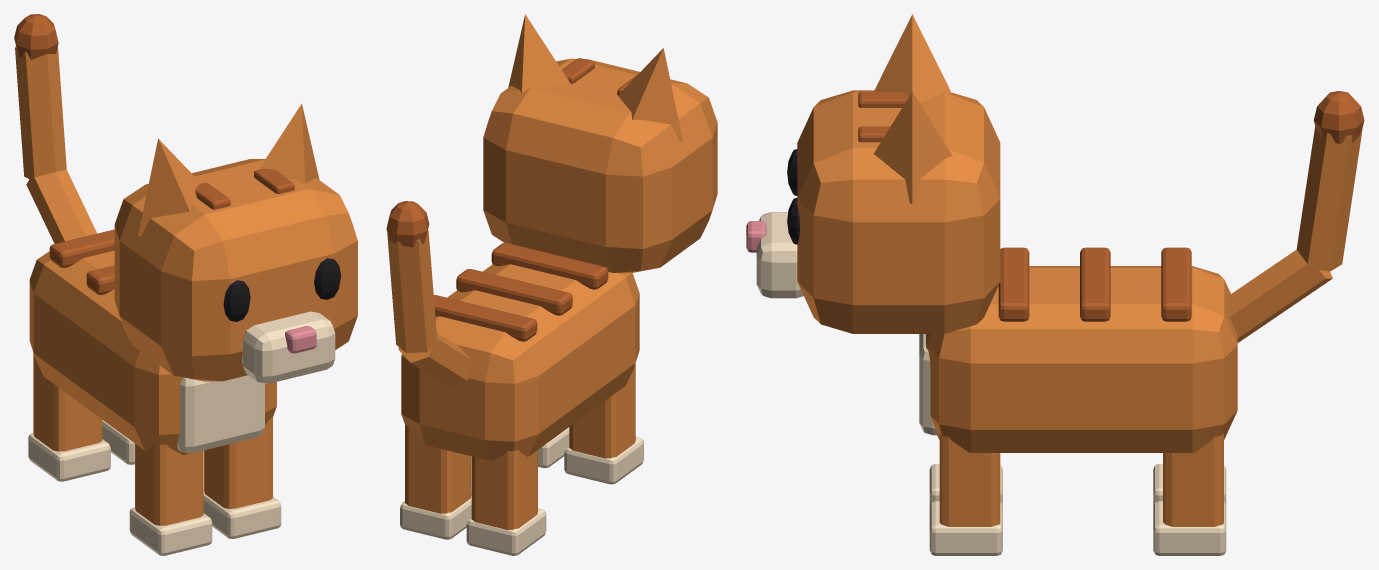
The model's file is cat_ginger.glb.
The picture shows the model from 3 angles, left to right: view 1: azimuth 30°, elevation 25°; view 2: azimuth 150°, elevation 25°; view 3: azimuth 270°, elevation 25°; orthographic projection. The views are drawn at different scales.
Visible parts, largest first — view 1: head_mesh, body_mesh, tail_mesh, leg_fr_mesh, leg_fl_mesh, leg_br_mesh, ear_r_mesh, ear_l_mesh, leg_bl_mesh; view 2: head_mesh, body_mesh, tail_mesh, leg_br_mesh, leg_bl_mesh, leg_fr_mesh, ear_r_mesh, ear_l_mesh, leg_fl_mesh; view 3: body_mesh, head_mesh, tail_mesh, leg_fl_mesh, leg_bl_mesh, ear_l_mesh, ear_r_mesh.
Part boxes in pixels (x1,y1,x2,y2): head_mesh: [114, 159, 357, 383]; body_mesh: [29, 229, 276, 454]; tail_mesh: [14, 14, 96, 243]; leg_fr_mesh: [129, 443, 212, 555]; leg_fl_mesh: [203, 417, 281, 538]; leg_br_mesh: [28, 353, 110, 481]; ear_r_mesh: [138, 138, 200, 236]; ear_l_mesh: [259, 103, 319, 183]; leg_bl_mesh: [102, 420, 134, 464]; head_mesh: [483, 58, 717, 273]; body_mesh: [401, 243, 639, 460]; tail_mesh: [386, 201, 471, 388]; leg_br_mesh: [466, 450, 546, 555]; leg_bl_mesh: [400, 425, 471, 539]; leg_fr_mesh: [564, 363, 643, 484]; ear_r_mesh: [618, 48, 682, 141]; ear_l_mesh: [508, 14, 570, 92]; leg_fl_mesh: [538, 427, 569, 468]; body_mesh: [919, 247, 1237, 452]; head_mesh: [746, 90, 1000, 333]; tail_mesh: [1224, 91, 1364, 342]; leg_fl_mesh: [929, 433, 1002, 555]; leg_bl_mesh: [1153, 433, 1226, 555]; ear_l_mesh: [874, 91, 952, 204]; ear_r_mesh: [874, 14, 951, 102].
Size of the model in its own units: 0.36 by 0.77 by 0.9125.
